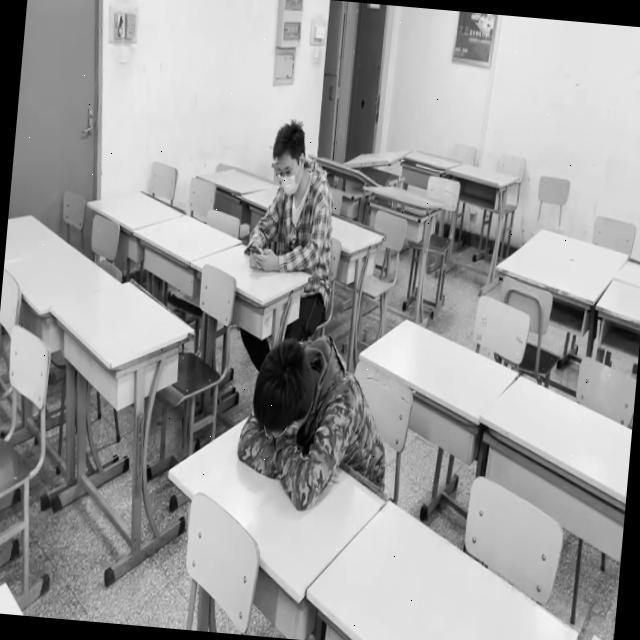phone: (244, 119, 343, 274)
sleep: (235, 345, 366, 514)
